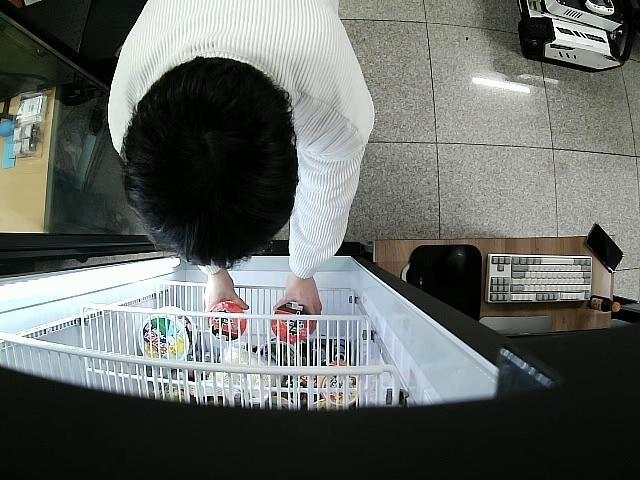02_shinRamen_S: (206, 299, 247, 340), (272, 302, 314, 342)
